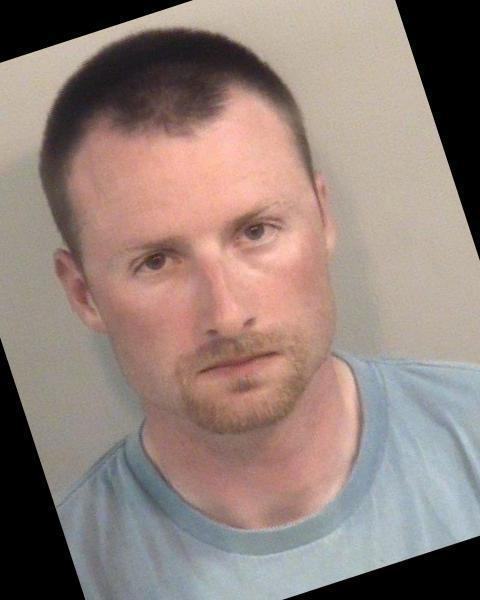Drunk: (74, 128, 329, 417)
